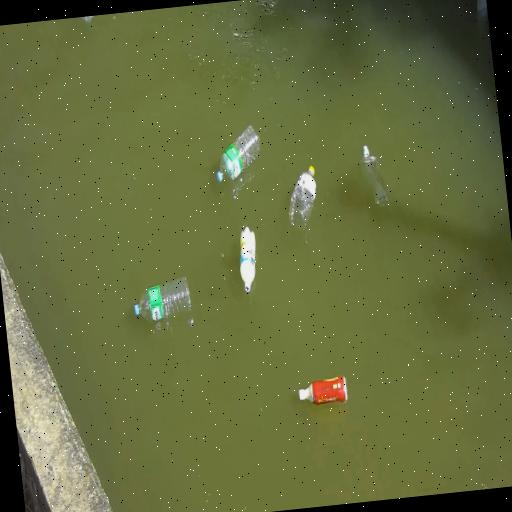plastic: (134, 277, 190, 321), (216, 126, 259, 182), (288, 166, 315, 228), (361, 145, 387, 206), (298, 376, 346, 405), (239, 227, 255, 292)
